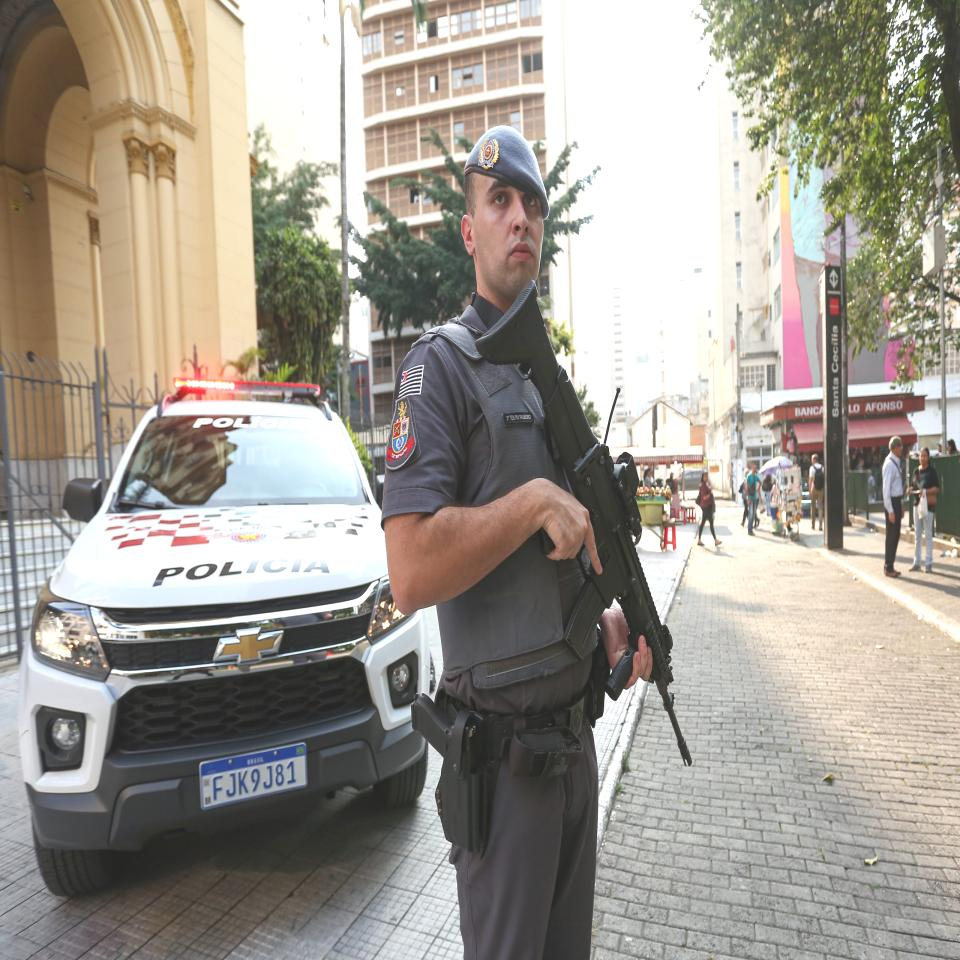viatura: (17, 368, 436, 911)
